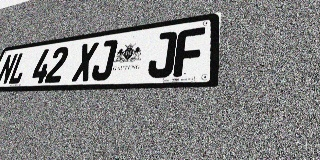2: (44, 46, 70, 83)
4: (29, 48, 55, 84)
F: (173, 27, 205, 77)
J: (146, 31, 178, 78), (90, 39, 118, 81)
L: (7, 51, 31, 85)
N: (0, 53, 19, 85)
X: (71, 42, 99, 82)
